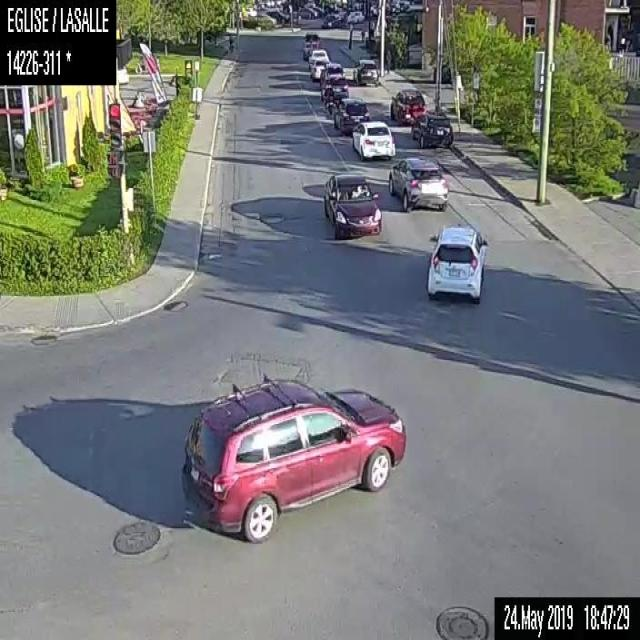pedestrian: (384, 48, 391, 73), (228, 34, 234, 52)
vehicle: (179, 371, 406, 544), (424, 223, 486, 304), (323, 171, 381, 237), (386, 155, 448, 209), (351, 118, 395, 159), (408, 109, 454, 148), (331, 96, 369, 136), (388, 87, 426, 123), (351, 58, 379, 86), (320, 73, 348, 100), (320, 62, 345, 90), (264, 7, 288, 25), (307, 48, 328, 68), (311, 57, 330, 79), (302, 39, 320, 60), (320, 12, 340, 28), (346, 8, 364, 24), (296, 6, 316, 17), (303, 29, 318, 41)
